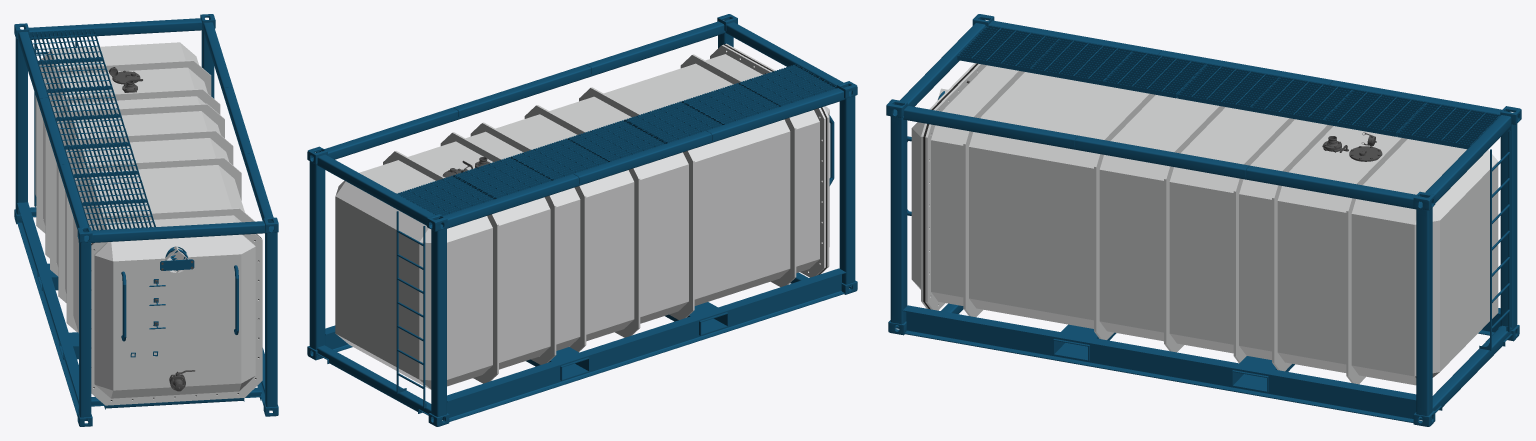
File: kontejner_animacije.glb
3 renders of one model, left to right at view 1: azimuth 30°, elevation 25°; view 2: azimuth 150°, elevation 25°; view 3: azimuth 270°, elevation 25°, orthographic. The views are drawn at different scales.
Parts seen in each view (by area): view 1: Object_285, Object_317.011, Object_317.016, Object_317.019, Object_317.013, Object_317.061, Object_317.082, Object_317.020, Object_317.054, Object_317.075, Object_317.067, Object_317.090 (+11 smaller); view 2: Object_285, Object_317.011, Object_317.036, Object_317.016, Object_317.010, Object_317.067, Object_317.090, Object_317.075, Object_317.054, Object_317.061, Object_317.020, Object_317.082 (+10 smaller); view 3: Object_285, Object_317.016, Object_317.018, Object_317.011, Object_317.010, Object_317.067, Object_317.075, Object_317.090, Object_317.054, Object_317.020, Object_317.061, Object_317.082 (+11 smaller).
Boxes of the visible parts, <box> form: Object_285: <box>35,42,262,405</box>; Object_317.011: <box>15,38,91,417</box>; Object_317.016: <box>201,30,277,407</box>; Object_317.019: <box>91,221,265,242</box>; Object_317.013: <box>29,18,202,39</box>; Object_317.061: <box>46,85,120,121</box>; Object_317.082: <box>72,170,147,206</box>; Object_317.020: <box>28,28,102,61</box>; Object_317.054: <box>37,57,111,89</box>; Object_317.075: <box>63,142,138,174</box>; Object_317.067: <box>55,113,129,146</box>; Object_317.090: <box>81,198,155,230</box>; Object_285: <box>335,43,829,389</box>; Object_317.011: <box>431,96,855,421</box>; Object_317.036: <box>443,274,841,419</box>; Object_317.016: <box>309,31,733,351</box>; Object_317.010: <box>316,211,431,415</box>; Object_317.067: <box>567,119,666,161</box>; Object_317.090: <box>738,64,836,106</box>; Object_317.075: <box>625,101,724,143</box>; Object_317.054: <box>454,156,553,198</box>; Object_317.061: <box>511,138,610,179</box>; Object_317.020: <box>396,175,495,215</box>; Object_317.082: <box>682,83,780,124</box>; Object_285: <box>911,63,1498,385</box>; Object_317.016: <box>890,116,1432,423</box>; Object_317.018: <box>906,312,1416,418</box>; Object_317.011: <box>1478,124,1517,335</box>; Object_317.010: <box>1432,130,1512,412</box>; Object_317.067: <box>1177,63,1280,110</box>; Object_317.075: <box>1103,50,1206,98</box>; Object_317.090: <box>957,25,1060,72</box>; Object_317.054: <box>1323,89,1426,136</box>; Object_317.020: <box>1397,102,1500,149</box>; Object_317.061: <box>1249,76,1352,123</box>; Object_317.082: <box>1029,38,1132,85</box>.
Bounding box in the file's own units: 4.57 × 2.59 × 6.57.
